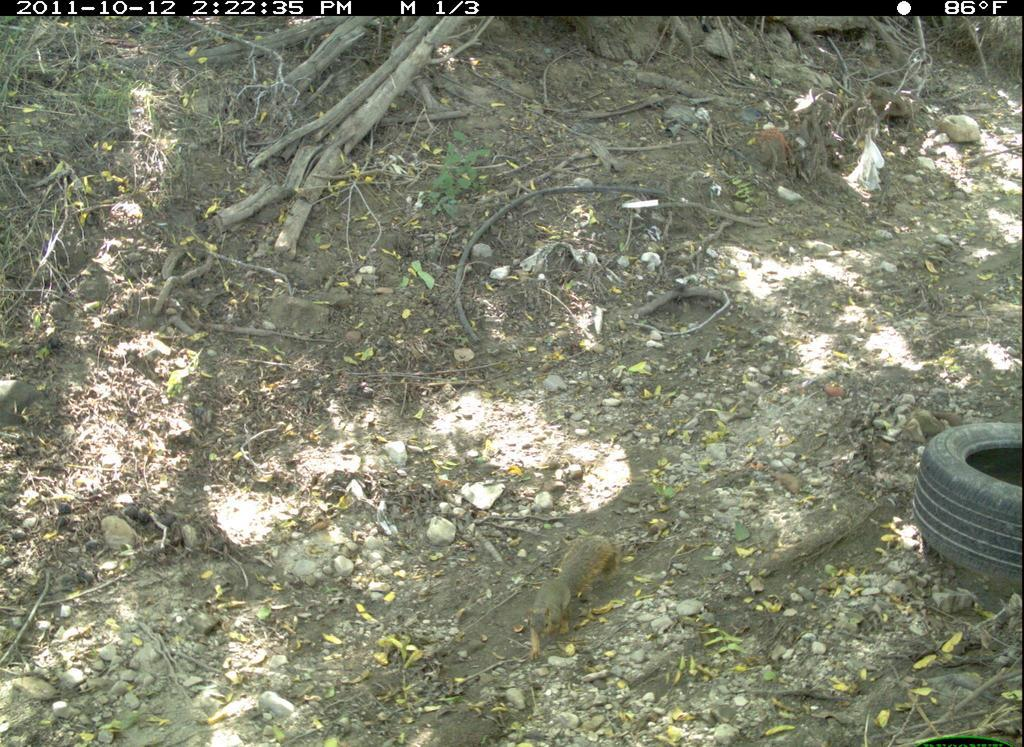squirrel: (514, 530, 623, 665)
